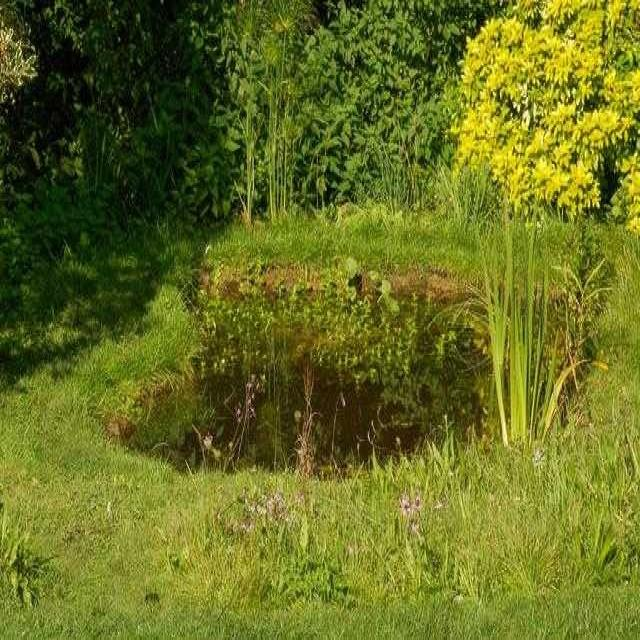Ponds: (139, 291, 568, 488)
